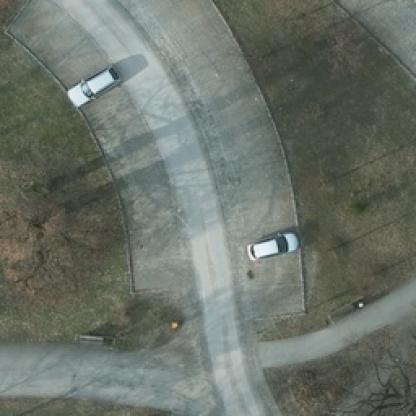car: (65, 62, 117, 104), (245, 226, 296, 258)
